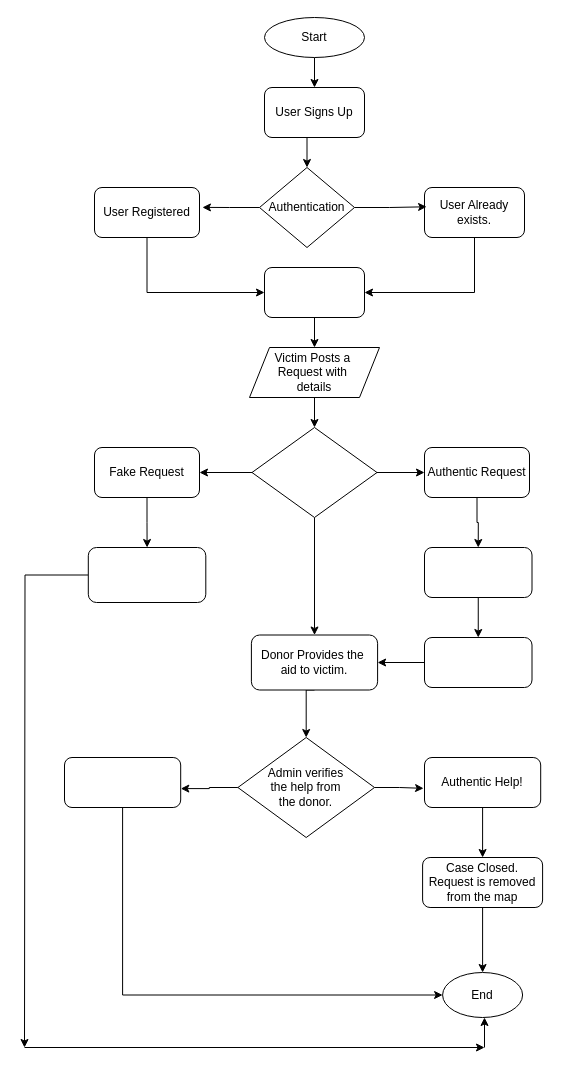
Some shapes in this 561 by 1073 pixel diagram are drawn without their labels. The centre of each missing label's shape, as x and y in pixels:
"Account suspended." goes at pixel 146 574.
"Admin validates the request." goes at pixel 314 472.
"Disputed Help" goes at pixel 122 782.
"Donor views and accepts the request" goes at pixel 478 662.
"Request is displayed on the map" goes at pixel 478 572.
"User Signs In" goes at pixel 314 292.
